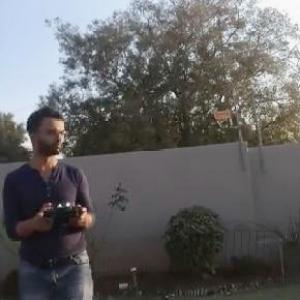follow: (1, 104, 100, 299)
